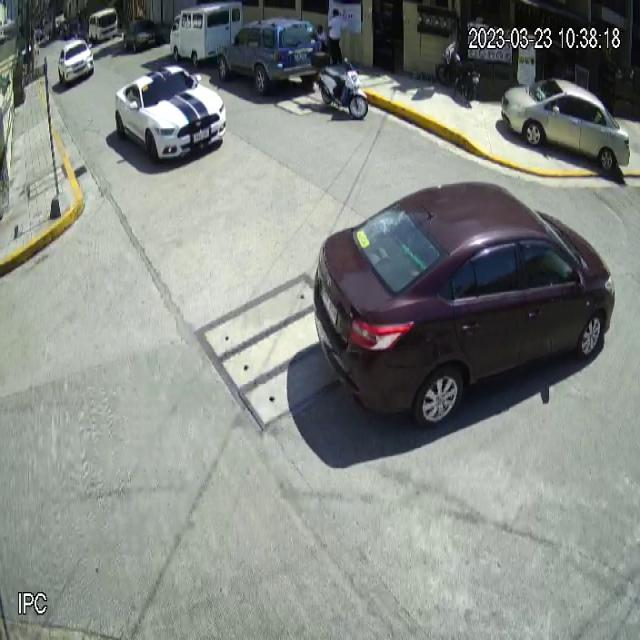Car: (313, 181, 614, 429), (500, 77, 631, 173), (116, 65, 226, 163), (217, 17, 323, 89)
Motorcycle: (310, 48, 368, 122)
Van: (170, 0, 243, 70)
